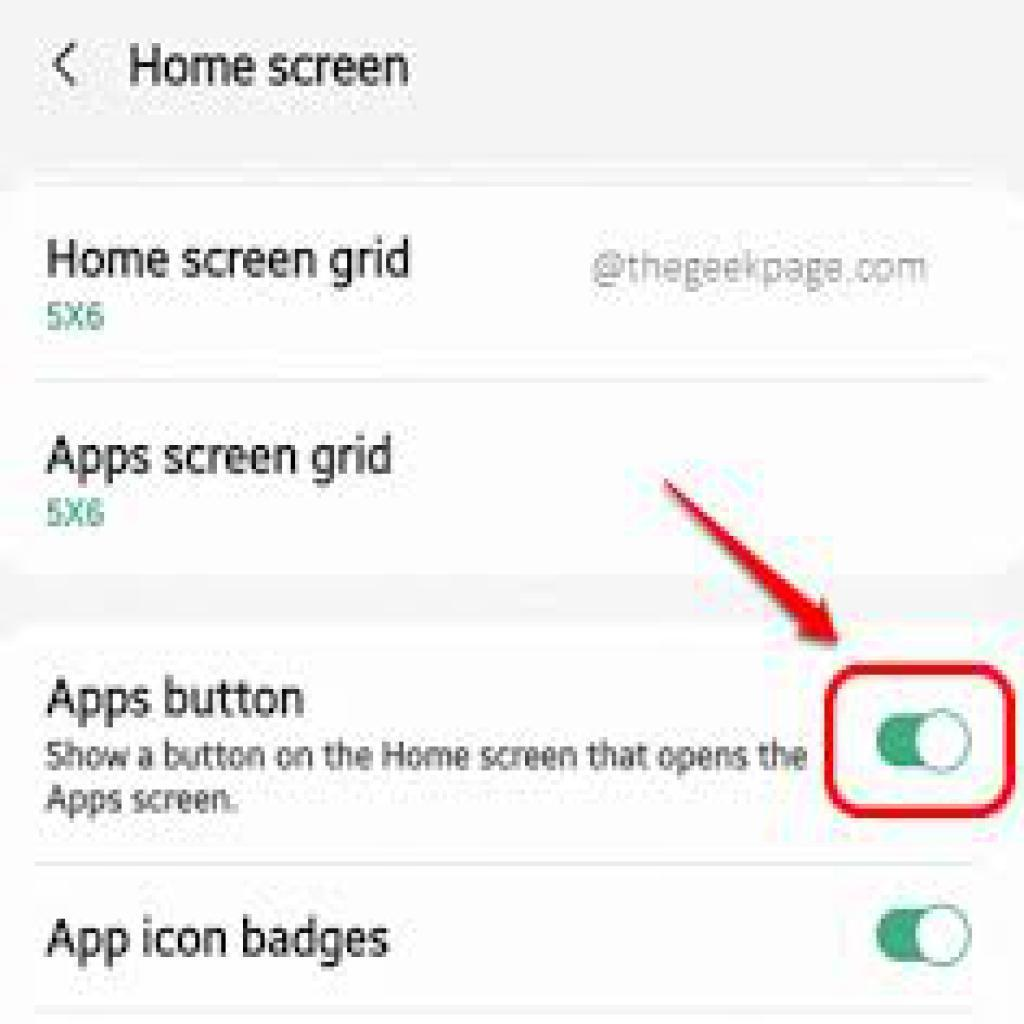icon: (50, 35, 91, 98)
label: (38, 230, 418, 296), (40, 911, 396, 974), (41, 430, 401, 492), (41, 671, 320, 734), (124, 38, 419, 90)
switch: (876, 709, 975, 775), (875, 904, 974, 967)
